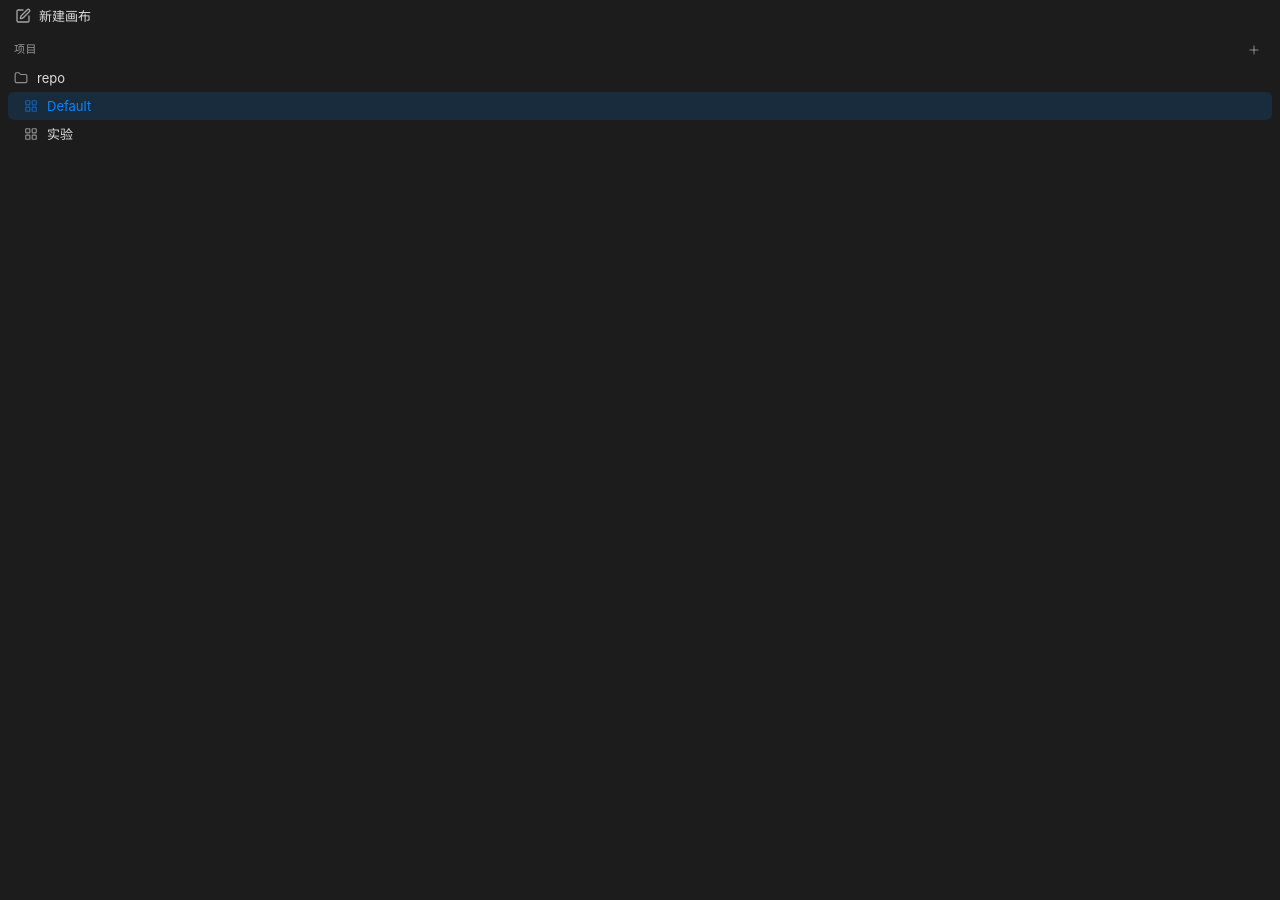
WorkspaceTree › 项目菜单明确区分浏览器导入副本和新建目录
Expected: the text "repo" is shown, 37,69 -> 65,87
Press the mouse on the button named "添加项目": (1254, 50) 1242,38 -> 1266,62
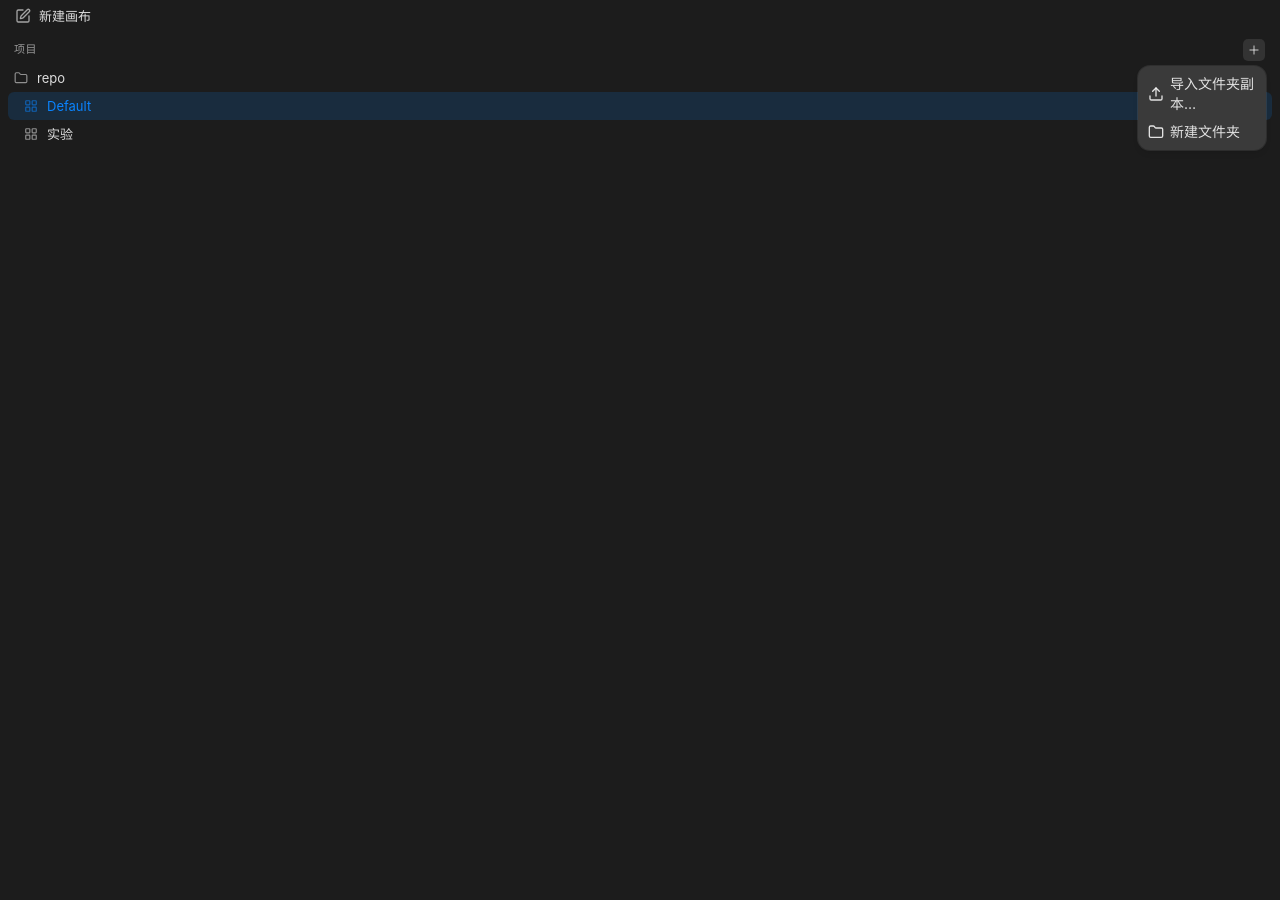
Result: the menu item "导入文件夹副本…" is shown at 1142,70 -> 1262,118
Click the menu item "新建文件夹": (1194, 132) 1148,123 -> 1240,140
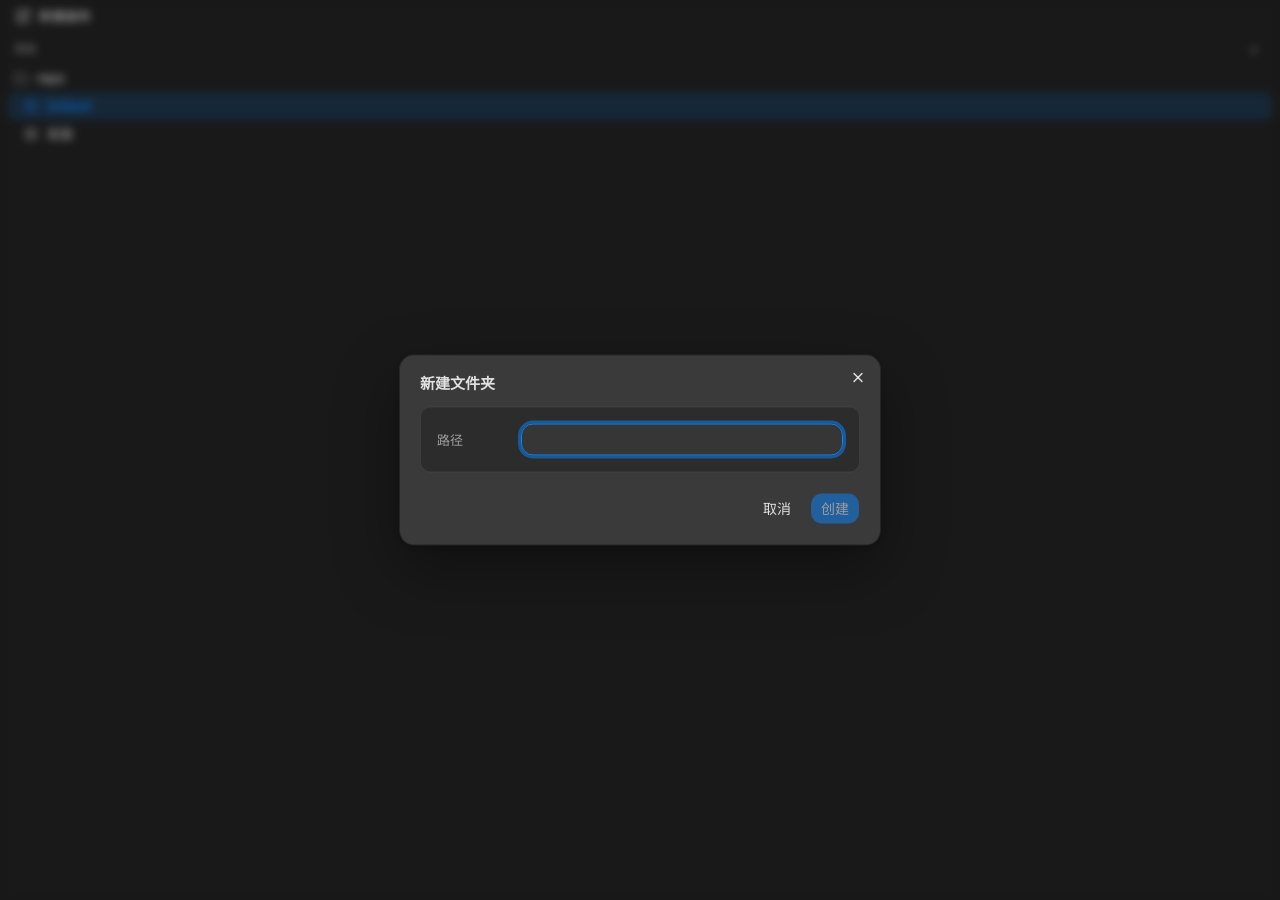
Result: the dialog "新建文件夹" is shown at 400,356 -> 880,544
